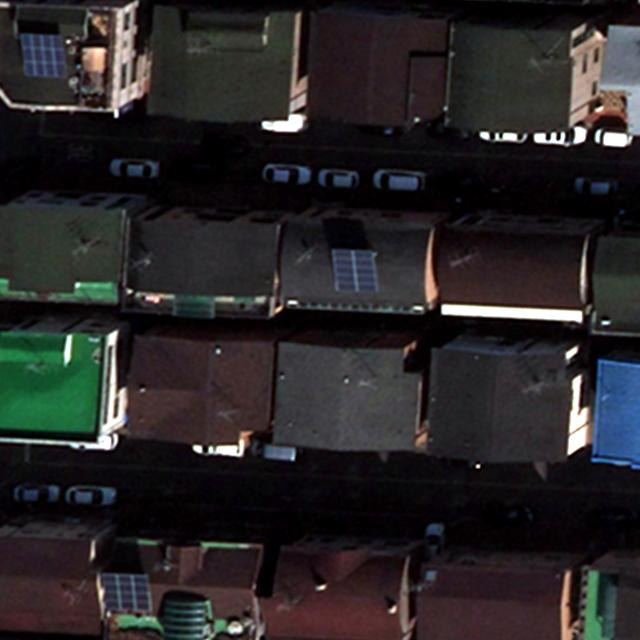panel: (15, 31, 69, 81), (328, 247, 380, 296), (99, 571, 156, 614)
